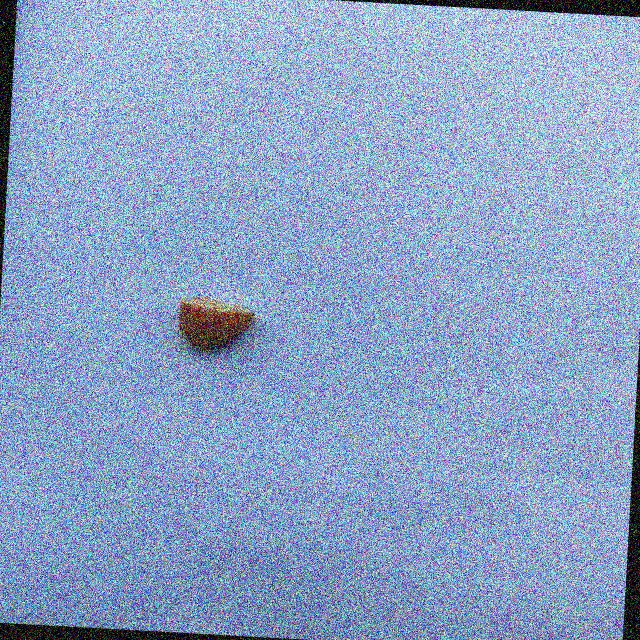grade4: (170, 291, 264, 359)
